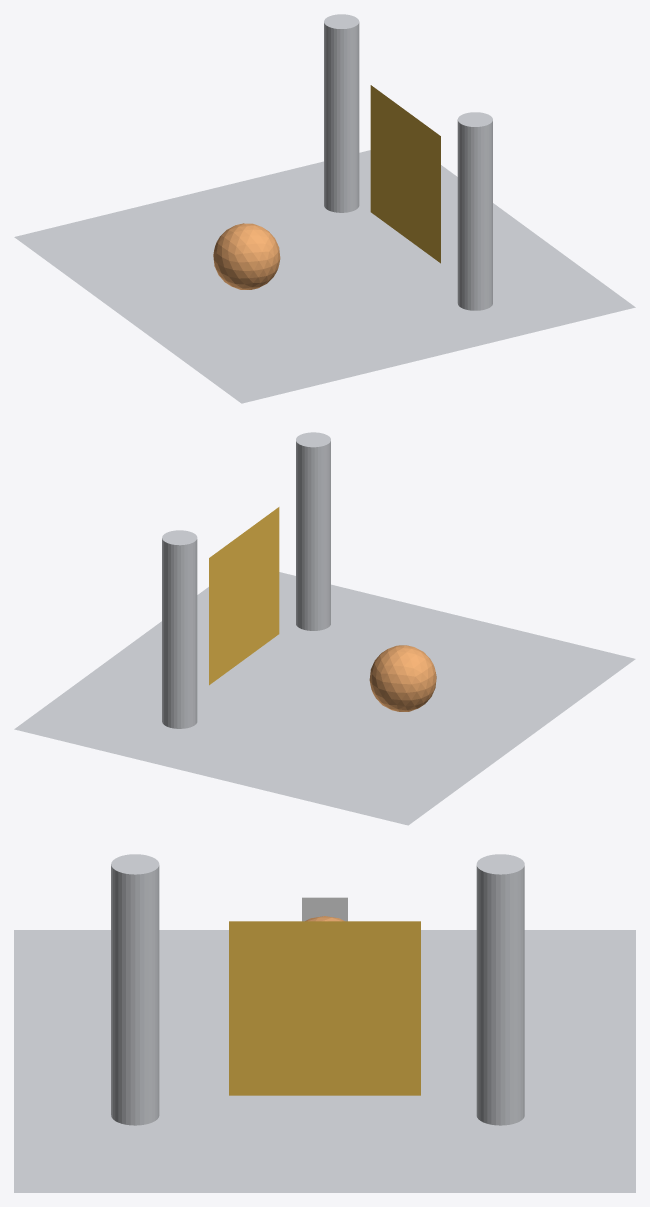
File: SmokeRope.glb
3 renders of one model, top to bottom at view 1: azimuth 30°, elevation 25°; view 2: azimuth 150°, elevation 25°; view 3: azimuth 270°, elevation 25°, orthographic. The views are drawn at different scales.
Parts seen in each view (by area): view 1: Plane.006, Plane.007, Cylinder.002, Cylinder.003, VortexSphere.001; view 2: Plane.006, Plane.007, Cylinder.003, Cylinder.002, VortexSphere.001; view 3: Plane.006, Plane.007, Cylinder.003, Cylinder.002, SmokeFlow.001.
Boxes of the visible parts, left/top/right/bottom form: Plane.006: left=14, top=150, right=635, bottom=403; Plane.007: left=370, top=85, right=440, bottom=263; Cylinder.002: left=457, top=112, right=492, bottom=310; Cylinder.003: left=324, top=14, right=359, bottom=212; VortexSphere.001: left=213, top=223, right=280, bottom=289; Plane.006: left=14, top=572, right=635, bottom=825; Plane.007: left=209, top=507, right=279, bottom=685; Cylinder.003: left=162, top=530, right=197, bottom=728; Cylinder.002: left=296, top=432, right=330, bottom=630; VortexSphere.001: left=369, top=645, right=436, bottom=711; Plane.006: left=14, top=930, right=635, bottom=1192; Plane.007: left=229, top=921, right=420, bottom=1095; Cylinder.003: left=476, top=854, right=524, bottom=1125; Cylinder.002: left=111, top=854, right=159, bottom=1125; SmokeFlow.001: left=302, top=897, right=347, bottom=921.
Bounding box in the file's own units: 6.48 × 2.93 × 6.48.
